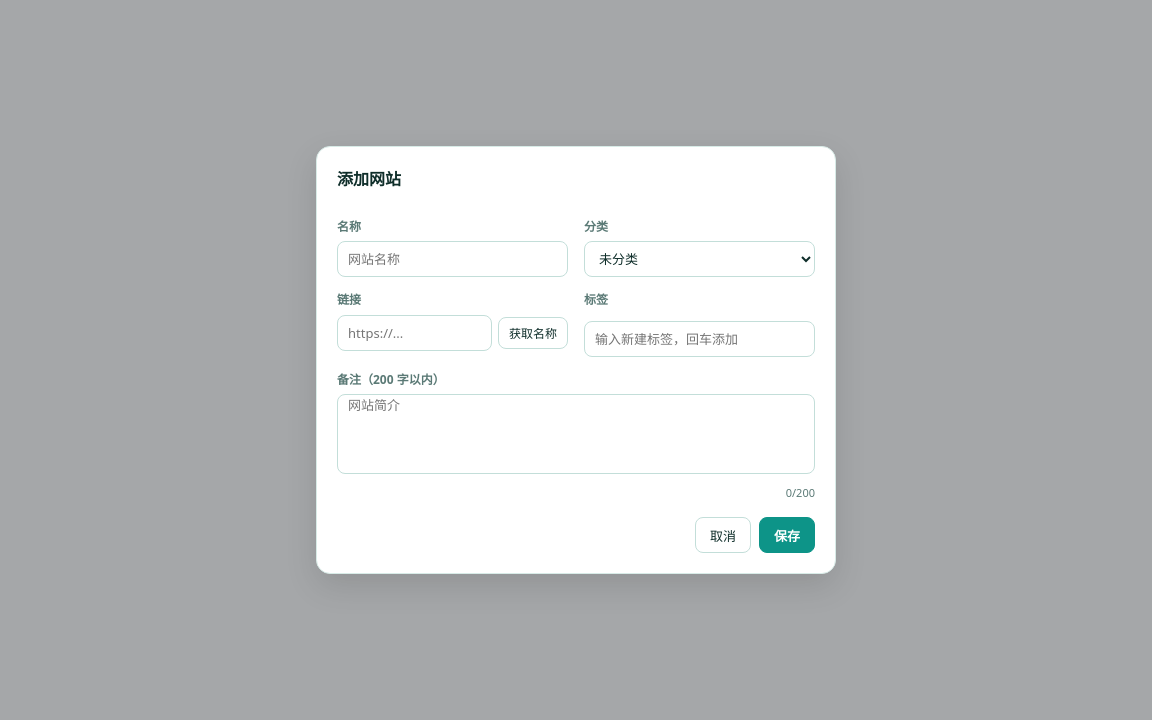
AddEditModal › shows error for duplicate URL on new site
Step 1. Type "New Site" into the field with placeholder "网站名称" → (452, 259), box [337,241,568,277]
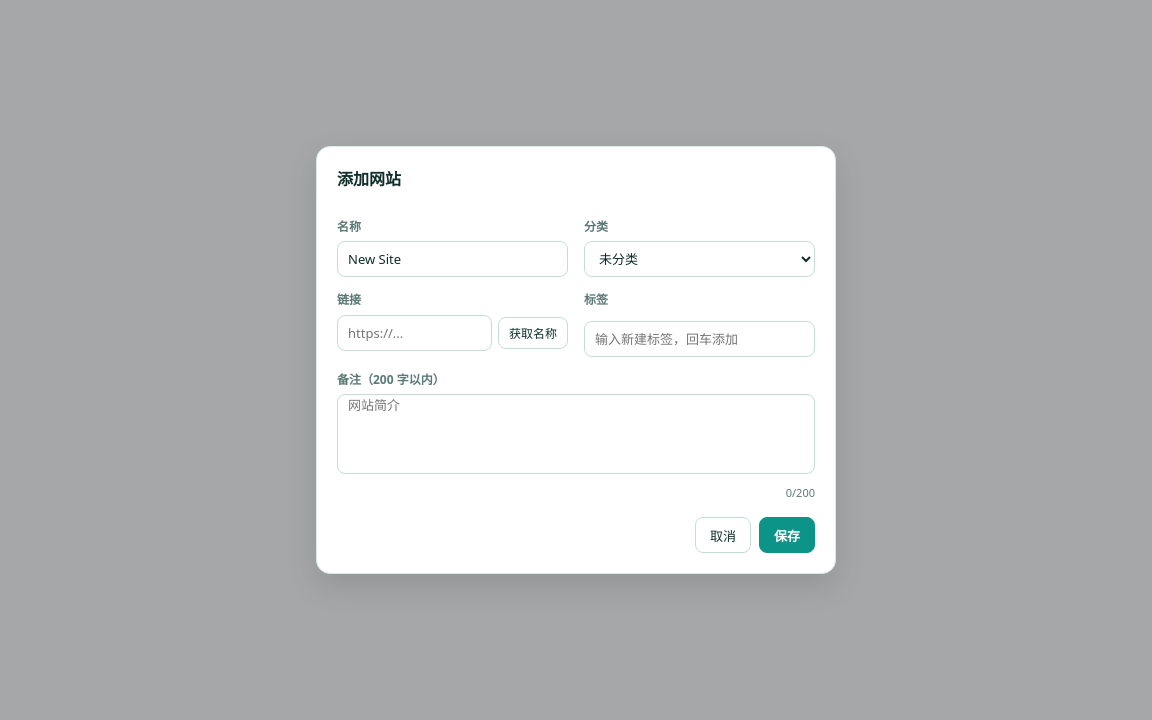
Step 2. Type "https://exists.dev" into the field with placeholder "https://..." → (414, 333), box [337,315,492,351]
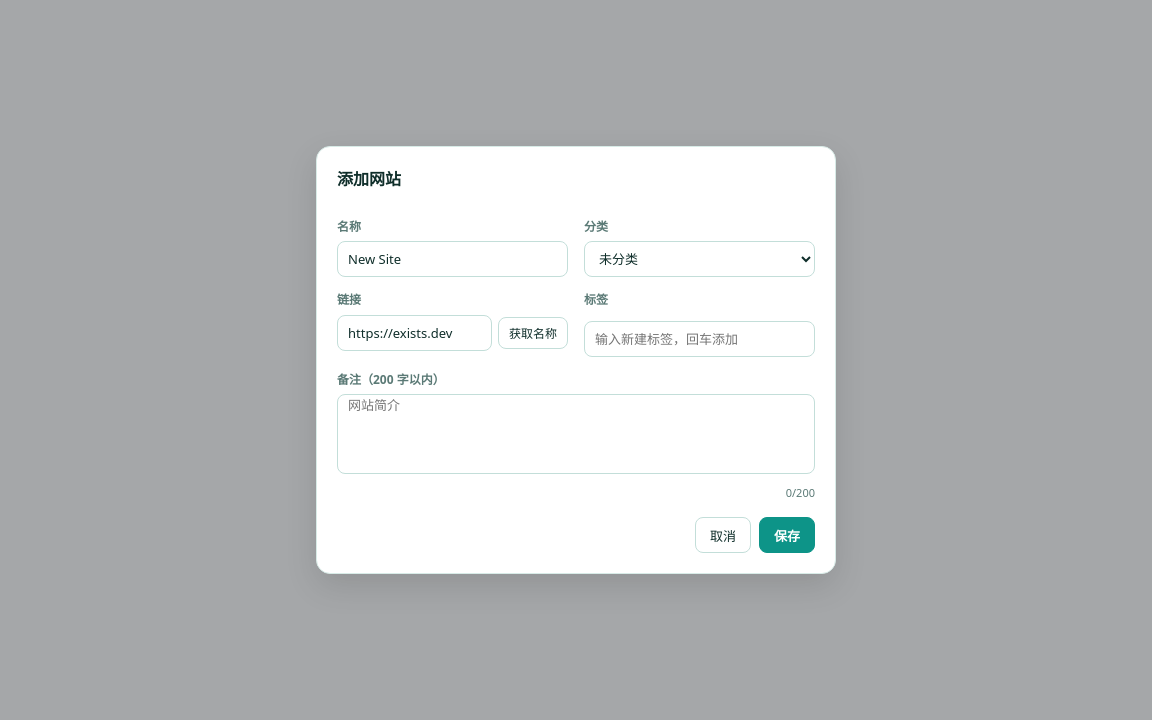
Step 3. Click the button "保存" → (787, 535), box [759,517,815,553]
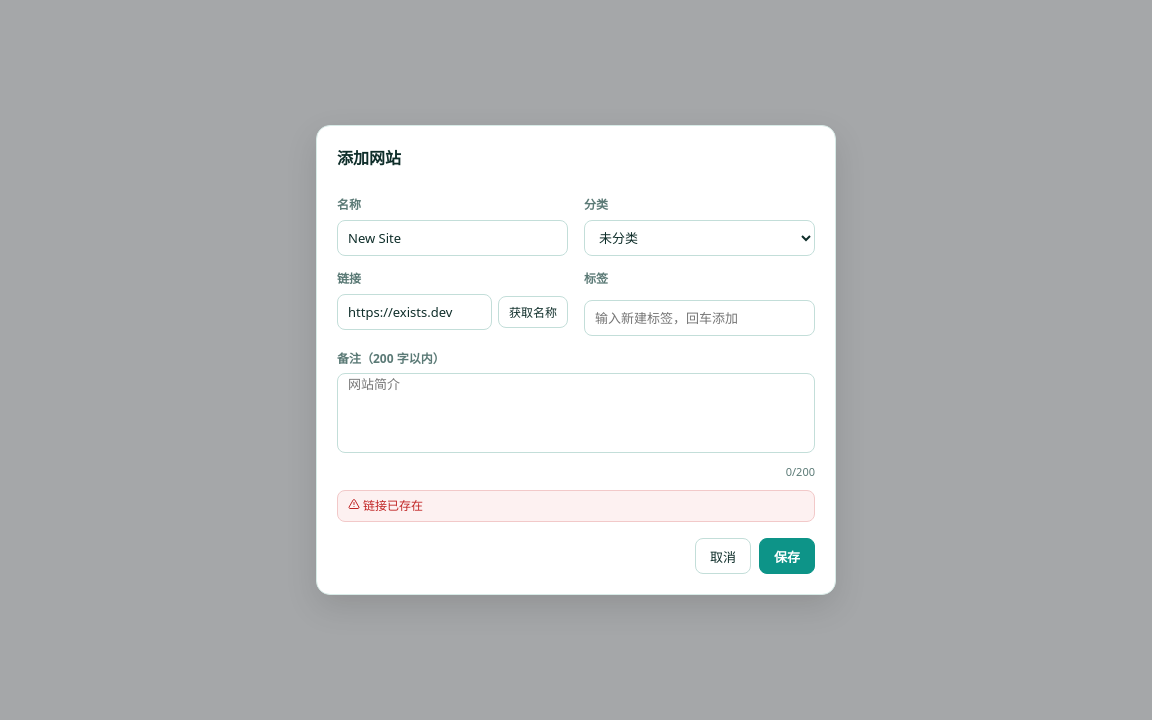
Check: the text "链接已存在" is shown, box [337,490,815,522]
